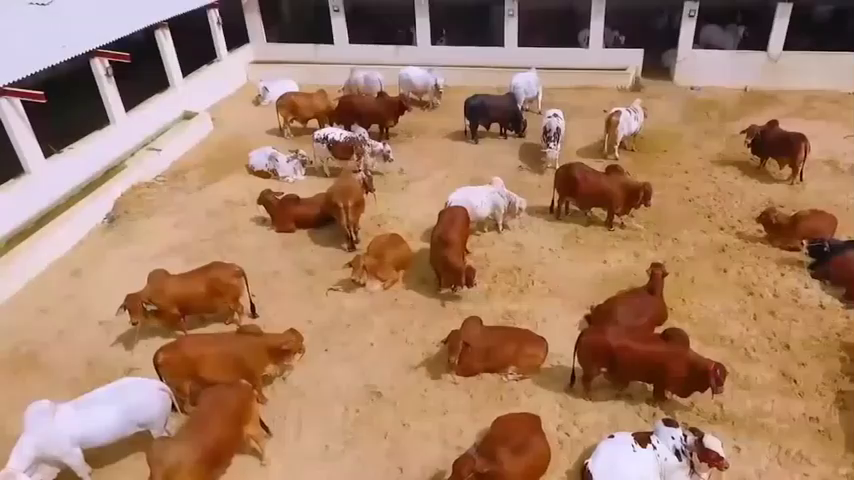Bo: (8, 367, 171, 474), (138, 381, 278, 480), (582, 419, 735, 480), (450, 407, 561, 480)
bo: (567, 327, 733, 409), (107, 257, 270, 331), (157, 325, 309, 404), (547, 157, 658, 228), (444, 313, 550, 387), (584, 257, 676, 334), (440, 171, 537, 236), (424, 208, 490, 299), (733, 115, 825, 180), (753, 190, 844, 241), (327, 165, 379, 249), (311, 123, 396, 174), (458, 90, 534, 146), (255, 176, 331, 230), (347, 231, 413, 292), (598, 91, 657, 157), (800, 231, 853, 293), (238, 139, 309, 183), (271, 90, 342, 133), (563, 13, 632, 57), (331, 91, 402, 133), (693, 12, 755, 59), (396, 56, 445, 109), (534, 111, 574, 168), (250, 66, 299, 101), (507, 70, 550, 106), (339, 62, 387, 93)
